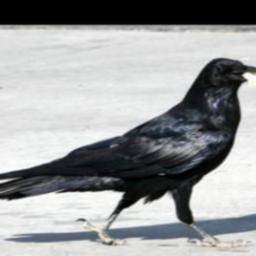Crow: (0, 57, 256, 249)
